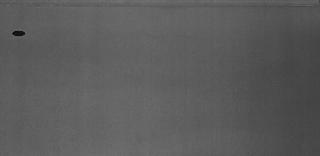punching hole: (9, 28, 31, 38)
